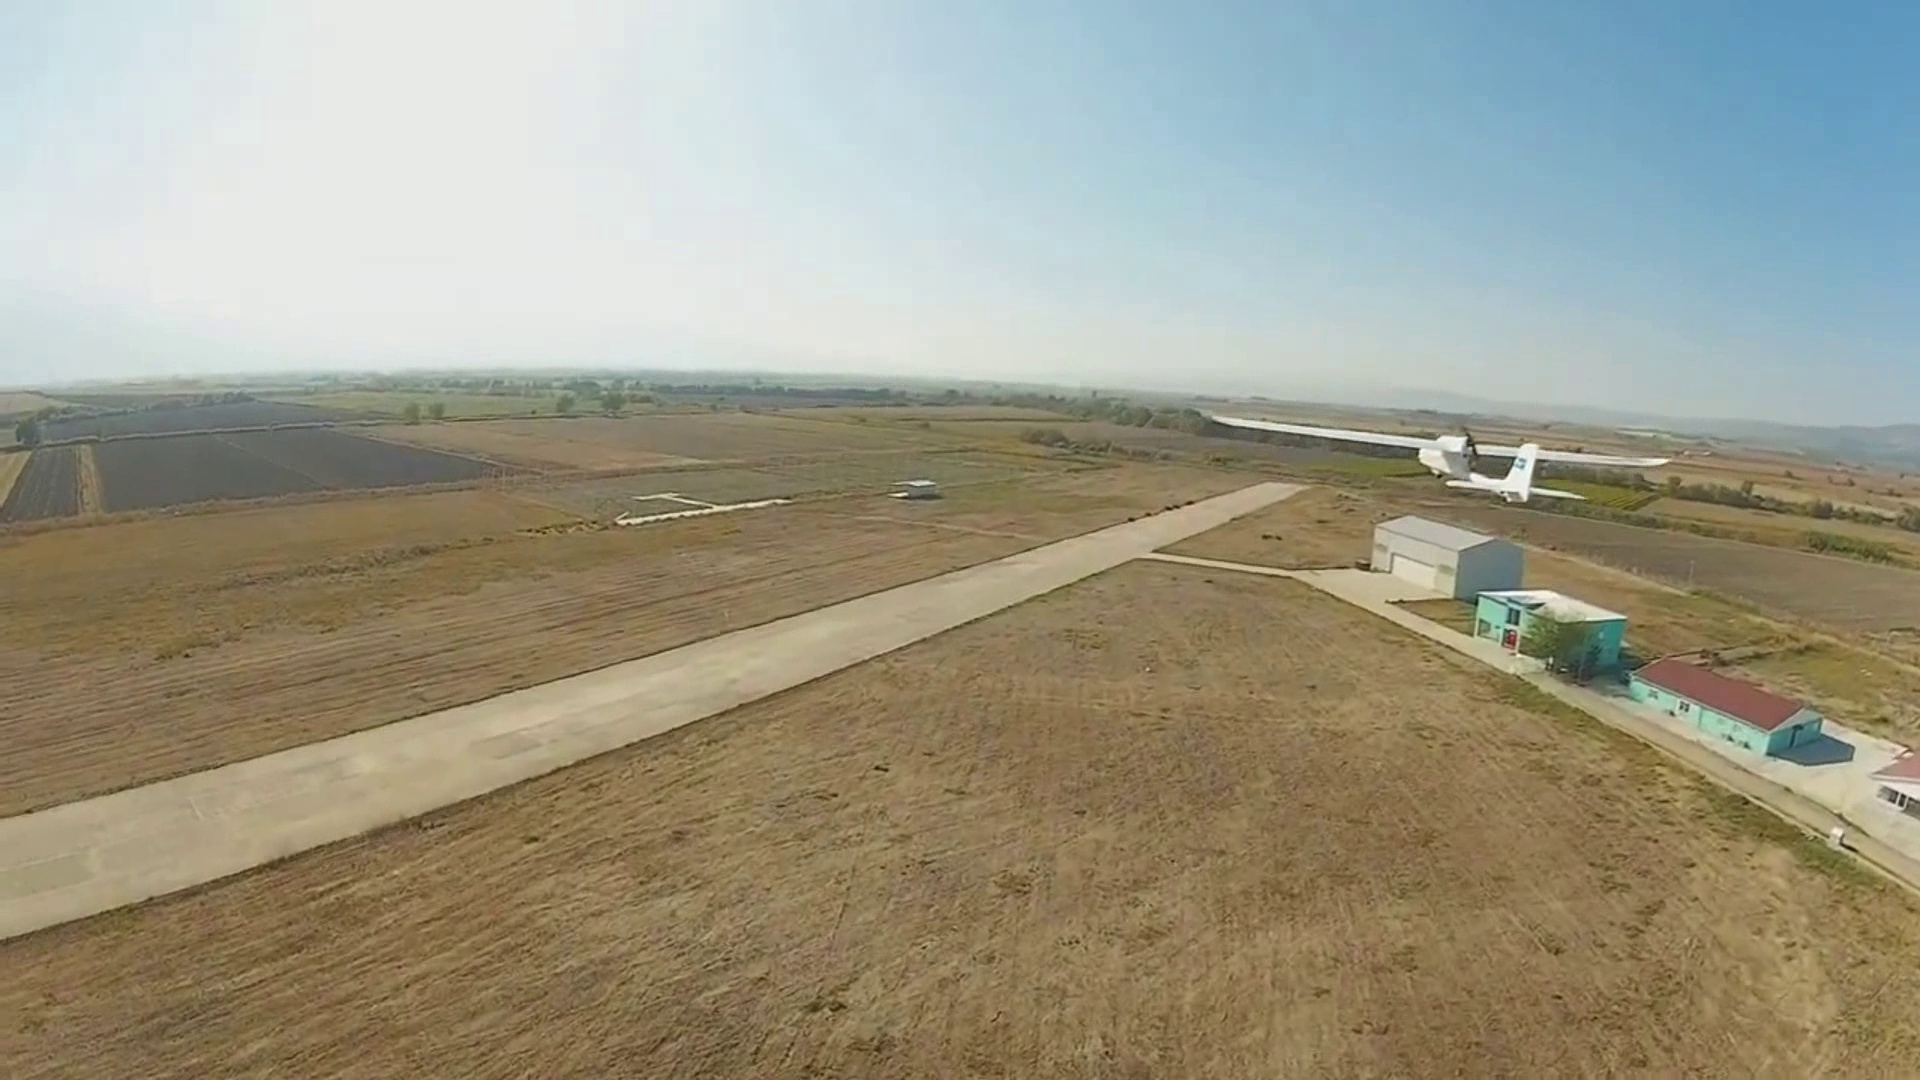airplane: (1192, 397, 1676, 504)
